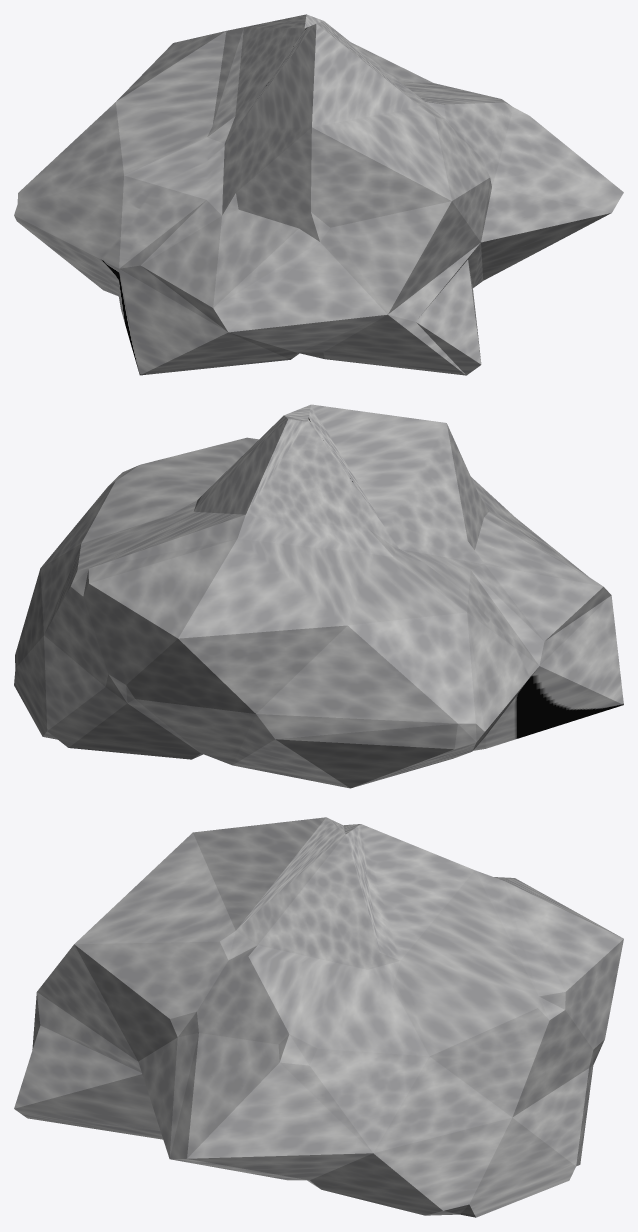
The picture shows the model from 3 angles, top to bottom: view 1: azimuth 30°, elevation 25°; view 2: azimuth 150°, elevation 25°; view 3: azimuth 270°, elevation 25°; orthographic projection. The views are drawn at different scales.
Visible parts, largest first — view 1: 바위_01; view 2: 바위_01; view 3: 바위_01.
Part boxes in pixels (x1,y1,x2,y2): 바위_01: (14, 14, 623, 375); 바위_01: (14, 404, 623, 788); 바위_01: (14, 817, 623, 1217).
Size of the model in its own units: 798 by 415 by 786.
1 material, 1 textured.
